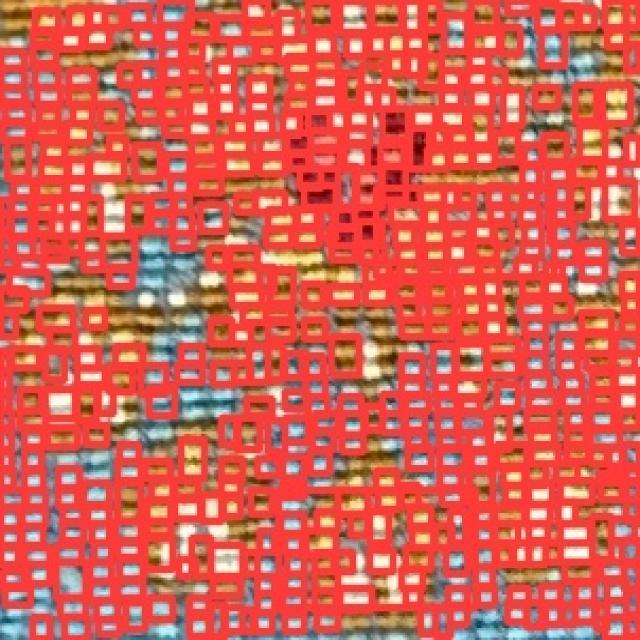Knot: (606, 182, 636, 221), (332, 336, 360, 376), (56, 562, 86, 598), (602, 84, 630, 122), (354, 168, 382, 206), (116, 483, 142, 521), (104, 238, 136, 268), (211, 546, 243, 576), (456, 344, 486, 375), (181, 440, 205, 478), (578, 126, 604, 160), (592, 516, 612, 560), (372, 1, 402, 30), (145, 537, 173, 568), (540, 30, 564, 66), (338, 166, 357, 210), (444, 16, 467, 52), (136, 145, 160, 179), (270, 270, 294, 304), (382, 109, 408, 140), (470, 110, 492, 146), (502, 88, 524, 124), (46, 390, 74, 418), (410, 128, 429, 169), (308, 1, 334, 30), (148, 388, 174, 417), (40, 309, 74, 331), (339, 588, 373, 610), (192, 538, 211, 577), (200, 204, 226, 232), (8, 142, 28, 178), (576, 85, 596, 121), (306, 531, 336, 555), (338, 490, 368, 514), (161, 1, 191, 25), (421, 55, 442, 89), (470, 472, 492, 504), (91, 157, 123, 179), (229, 264, 261, 286), (560, 480, 592, 502), (278, 38, 310, 60), (471, 1, 497, 28), (494, 133, 518, 162), (10, 274, 48, 292), (384, 166, 404, 200), (543, 136, 567, 164), (304, 186, 336, 207), (142, 366, 166, 394), (186, 17, 214, 41), (76, 390, 98, 420), (256, 192, 286, 214), (490, 412, 508, 448), (130, 196, 148, 232), (238, 418, 258, 450), (434, 346, 454, 378), (248, 348, 267, 381), (260, 134, 286, 158), (12, 348, 40, 370), (472, 31, 500, 53), (217, 18, 245, 40), (0, 288, 28, 310), (116, 345, 144, 367), (571, 182, 588, 218), (46, 428, 78, 447), (582, 334, 612, 354), (109, 368, 133, 392), (536, 4, 558, 30), (368, 548, 394, 570), (146, 500, 172, 522), (224, 156, 254, 175), (488, 356, 518, 375), (497, 446, 527, 465), (582, 313, 612, 332), (560, 524, 590, 543), (392, 205, 422, 224), (605, 2, 626, 29), (500, 27, 521, 54), (346, 142, 366, 170), (438, 110, 466, 130), (532, 444, 560, 464), (202, 494, 222, 522), (248, 20, 276, 40), (344, 73, 362, 104), (621, 224, 640, 253), (193, 139, 218, 161), (176, 498, 201, 520), (407, 548, 432, 570), (84, 198, 100, 232), (485, 339, 517, 356), (220, 136, 250, 154), (454, 378, 484, 396), (444, 208, 474, 226), (312, 150, 340, 169), (591, 428, 619, 447), (526, 411, 554, 430), (528, 483, 552, 505), (64, 617, 88, 639), (496, 386, 520, 408), (34, 10, 58, 32), (84, 482, 108, 504), (366, 262, 388, 286), (494, 524, 518, 546), (611, 518, 635, 540), (284, 420, 308, 442), (282, 455, 306, 477), (4, 102, 28, 124), (360, 66, 384, 88), (371, 512, 388, 543), (268, 422, 285, 453), (46, 350, 64, 379), (278, 12, 298, 38), (440, 448, 466, 468), (108, 268, 134, 288), (36, 181, 66, 198), (268, 346, 283, 380), (450, 510, 465, 544), (459, 318, 482, 340), (333, 207, 356, 229), (566, 564, 594, 582), (251, 490, 272, 514), (285, 354, 306, 378), (446, 549, 467, 573), (330, 286, 358, 304), (458, 414, 486, 432), (162, 83, 186, 104), (328, 226, 356, 244), (430, 301, 456, 320), (574, 163, 600, 182), (116, 580, 142, 599), (5, 585, 31, 604), (50, 331, 76, 350), (269, 210, 295, 229), (3, 121, 29, 140), (268, 320, 294, 339), (188, 614, 210, 636), (470, 522, 492, 544), (412, 526, 434, 548), (600, 480, 624, 500), (614, 370, 638, 390), (526, 504, 550, 524), (231, 288, 261, 304), (36, 68, 60, 88), (288, 56, 312, 76), (168, 154, 188, 178), (287, 134, 311, 154), (310, 130, 340, 146), (0, 86, 24, 106), (32, 44, 56, 64), (213, 579, 241, 596), (77, 368, 105, 385), (230, 248, 258, 265), (528, 392, 556, 409), (496, 507, 524, 524), (473, 241, 498, 260), (0, 489, 25, 508), (313, 91, 338, 110), (229, 42, 254, 61), (246, 398, 271, 417), (41, 160, 67, 178), (115, 522, 141, 540), (68, 70, 94, 88), (24, 546, 50, 564), (68, 7, 89, 29), (20, 390, 41, 412), (409, 507, 430, 529), (618, 390, 639, 412), (283, 592, 304, 614), (360, 223, 382, 244), (409, 448, 430, 470), (139, 64, 160, 86), (212, 362, 233, 384), (423, 226, 446, 246), (470, 89, 494, 108), (86, 29, 110, 48), (296, 228, 320, 247), (212, 320, 231, 344), (530, 427, 554, 446), (528, 374, 552, 393), (550, 224, 574, 243), (127, 6, 151, 25), (590, 410, 614, 429), (60, 598, 84, 617), (420, 187, 444, 206), (126, 604, 145, 628), (582, 259, 606, 278), (406, 393, 430, 412), (177, 366, 202, 384), (211, 606, 226, 636), (34, 124, 62, 140), (68, 88, 96, 104), (420, 608, 436, 636), (2, 572, 30, 588), (146, 520, 172, 537), (56, 545, 82, 562), (194, 175, 220, 192), (264, 229, 290, 246), (188, 98, 210, 118), (560, 7, 580, 29), (378, 490, 400, 510), (524, 316, 546, 336), (450, 148, 472, 168), (468, 432, 490, 452), (380, 146, 402, 166), (438, 411, 458, 433), (402, 356, 422, 378), (474, 545, 494, 567), (526, 465, 546, 487), (222, 459, 242, 481), (68, 124, 92, 142), (536, 88, 560, 106), (224, 608, 242, 632), (222, 419, 238, 446), (88, 582, 112, 600), (148, 600, 172, 618), (364, 408, 382, 432), (98, 387, 114, 414), (118, 462, 142, 480), (313, 74, 338, 91), (192, 158, 220, 173), (548, 184, 569, 204), (251, 116, 272, 136), (13, 238, 34, 258), (604, 618, 625, 638), (100, 106, 120, 127), (2, 50, 23, 70), (315, 552, 336, 572), (321, 210, 336, 238), (550, 298, 571, 318), (304, 284, 323, 306), (412, 109, 434, 128), (312, 36, 334, 55), (496, 542, 515, 564), (442, 70, 461, 92), (288, 151, 310, 170), (366, 284, 388, 303), (26, 566, 48, 585), (303, 357, 322, 379), (396, 283, 418, 302), (32, 617, 51, 639), (134, 84, 156, 103), (260, 156, 286, 172), (145, 462, 171, 478), (425, 282, 448, 300), (315, 414, 338, 432), (21, 410, 45, 427), (314, 56, 338, 73), (23, 508, 47, 525), (600, 562, 624, 579), (474, 148, 494, 168), (188, 120, 213, 136), (526, 334, 546, 354), (382, 394, 402, 414), (348, 110, 368, 130), (90, 562, 111, 581), (121, 560, 142, 579), (282, 514, 303, 533), (316, 512, 337, 531), (248, 78, 269, 97), (88, 506, 109, 525), (304, 320, 325, 339), (300, 169, 321, 188), (285, 391, 306, 410), (316, 572, 337, 591), (592, 372, 614, 390), (362, 244, 384, 262), (434, 526, 452, 548), (350, 514, 368, 536), (466, 70, 488, 88), (542, 602, 560, 624), (256, 592, 274, 614), (544, 542, 562, 564), (308, 112, 330, 130), (152, 214, 174, 232), (382, 414, 404, 432), (398, 300, 420, 318), (62, 522, 84, 540), (528, 542, 546, 564), (152, 196, 174, 214), (312, 432, 334, 450), (554, 244, 576, 262), (470, 450, 492, 468), (436, 608, 450, 636), (627, 136, 640, 166), (586, 353, 612, 368), (396, 246, 420, 262), (454, 264, 478, 280), (118, 542, 142, 558), (174, 480, 198, 496), (440, 488, 464, 504), (288, 94, 312, 110), (528, 603, 544, 627), (521, 300, 545, 316), (555, 464, 579, 480), (616, 336, 640, 352), (463, 298, 482, 318), (407, 412, 426, 432), (24, 526, 44, 545), (342, 415, 362, 434), (0, 508, 19, 528), (508, 603, 528, 622), (284, 534, 303, 554), (378, 471, 398, 490), (335, 552, 354, 572), (104, 8, 123, 28), (258, 458, 278, 477), (522, 278, 542, 297), (12, 216, 30, 237), (244, 306, 265, 324), (87, 426, 108, 444), (172, 232, 193, 250), (85, 310, 106, 328), (2, 70, 23, 88), (583, 244, 604, 262), (340, 396, 361, 414), (548, 166, 569, 184), (18, 256, 43, 271), (402, 321, 427, 336), (622, 274, 639, 296), (408, 54, 425, 76), (623, 444, 640, 466), (287, 554, 304, 576), (430, 320, 452, 337), (622, 540, 639, 562), (512, 542, 529, 564), (0, 314, 17, 336), (495, 224, 512, 246), (458, 282, 481, 298), (424, 246, 447, 262), (37, 88, 60, 104), (424, 206, 443, 225), (162, 102, 181, 121), (232, 326, 251, 345), (428, 151, 447, 170), (567, 409, 586, 428), (215, 60, 234, 79), (602, 162, 621, 181), (152, 480, 172, 498), (484, 318, 504, 336), (396, 226, 414, 246), (506, 484, 524, 504), (222, 498, 242, 516), (558, 354, 578, 372), (594, 390, 614, 408), (60, 468, 78, 488), (504, 468, 524, 486), (625, 564, 640, 588), (526, 354, 546, 372), (438, 432, 458, 450), (402, 378, 422, 396), (306, 378, 326, 396), (254, 612, 274, 630), (98, 600, 116, 620), (170, 178, 190, 196), (402, 570, 422, 588), (182, 346, 202, 364), (508, 588, 528, 606), (32, 31, 53, 48), (315, 592, 336, 609), (440, 471, 461, 488), (548, 206, 569, 223), (250, 98, 271, 115), (515, 260, 536, 277), (138, 104, 159, 121), (42, 144, 64, 160), (402, 485, 418, 507), (612, 354, 634, 370), (346, 130, 368, 146), (450, 130, 472, 146), (627, 45, 640, 72), (332, 244, 355, 259), (448, 244, 467, 262), (346, 36, 364, 55), (73, 106, 92, 124), (66, 217, 84, 236), (546, 278, 564, 297), (184, 41, 202, 60), (69, 160, 88, 178), (24, 470, 42, 489), (173, 214, 192, 232), (208, 248, 226, 267), (524, 145, 542, 164), (606, 582, 625, 600), (576, 604, 594, 623), (308, 398, 326, 417), (369, 34, 388, 52), (442, 88, 461, 106), (576, 584, 594, 603), (120, 444, 139, 462), (312, 453, 330, 472), (1, 528, 20, 546), (64, 235, 82, 254), (190, 597, 208, 616), (407, 34, 426, 52), (542, 586, 560, 605), (179, 558, 196, 578), (60, 31, 80, 48), (236, 195, 256, 212), (562, 392, 582, 409), (58, 489, 78, 506), (26, 490, 46, 507), (408, 430, 425, 450), (186, 80, 206, 97), (88, 8, 105, 28), (443, 188, 460, 208), (342, 436, 362, 453), (520, 206, 540, 223), (78, 350, 98, 367), (567, 446, 588, 462), (426, 264, 447, 280), (161, 46, 182, 62), (317, 614, 338, 630), (164, 121, 188, 135), (97, 620, 121, 634), (284, 614, 305, 630), (260, 266, 274, 290), (560, 336, 578, 354), (470, 52, 488, 70), (438, 396, 456, 414), (450, 606, 468, 624), (256, 576, 274, 594), (283, 115, 300, 134), (388, 54, 405, 73), (14, 181, 33, 198), (108, 139, 127, 156), (92, 524, 109, 543), (216, 79, 235, 96), (448, 587, 467, 604), (620, 411, 639, 428), (568, 428, 587, 445), (377, 90, 394, 109), (285, 574, 304, 591), (234, 362, 251, 381), (607, 30, 626, 47), (359, 89, 376, 108), (400, 264, 420, 280), (578, 8, 594, 28), (330, 110, 346, 130), (508, 188, 524, 208), (472, 510, 492, 526), (164, 64, 184, 80), (46, 246, 66, 262), (296, 210, 316, 226), (626, 2, 639, 26), (627, 591, 640, 615), (508, 1, 534, 13), (266, 309, 292, 321), (524, 166, 538, 188), (260, 530, 274, 552), (218, 98, 236, 115), (482, 280, 499, 298), (474, 225, 492, 242), (562, 375, 580, 392), (623, 316, 640, 334), (483, 298, 500, 316), (232, 118, 249, 136), (94, 544, 112, 561), (64, 507, 82, 524), (478, 588, 495, 606), (490, 205, 508, 222), (258, 42, 276, 59), (163, 26, 180, 44), (476, 566, 492, 585), (490, 187, 506, 206), (34, 198, 53, 214), (0, 548, 19, 564), (120, 66, 136, 85), (44, 236, 64, 251), (522, 244, 542, 259), (432, 124, 447, 144), (530, 525, 547, 542), (35, 217, 52, 234), (590, 447, 607, 464), (623, 297, 640, 314), (560, 504, 576, 522), (26, 450, 42, 468), (12, 198, 30, 214), (436, 378, 452, 396), (488, 70, 504, 88), (596, 605, 608, 629), (627, 616, 640, 638), (627, 500, 640, 522), (68, 182, 87, 197), (52, 217, 67, 236), (524, 225, 540, 242), (186, 62, 202, 79), (222, 479, 240, 494), (292, 79, 310, 94), (84, 255, 102, 270), (244, 554, 258, 573), (562, 604, 576, 623), (39, 108, 58, 122), (388, 262, 400, 284), (627, 480, 640, 500), (26, 432, 42, 448), (458, 190, 474, 206), (138, 28, 154, 44), (404, 590, 420, 606), (0, 254, 17, 269), (53, 200, 68, 217), (283, 484, 304, 496), (544, 264, 562, 278), (0, 470, 13, 489), (610, 446, 623, 465), (172, 196, 188, 211), (450, 228, 470, 240), (600, 473, 624, 483), (68, 199, 82, 216), (481, 264, 498, 278), (524, 187, 538, 204), (0, 450, 13, 468), (461, 400, 480, 412), (625, 467, 640, 482), (0, 235, 13, 252), (0, 411, 13, 428), (0, 430, 11, 450), (243, 611, 253, 633), (0, 392, 11, 411), (1, 199, 12, 216), (450, 282, 460, 300), (0, 216, 11, 232), (0, 350, 8, 369), (0, 372, 8, 391), (420, 283, 428, 302)
